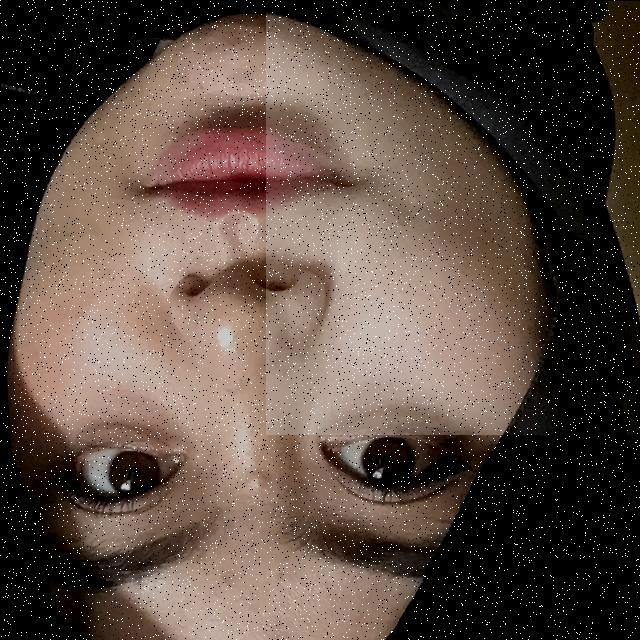kapan: (265, 0, 640, 434)
